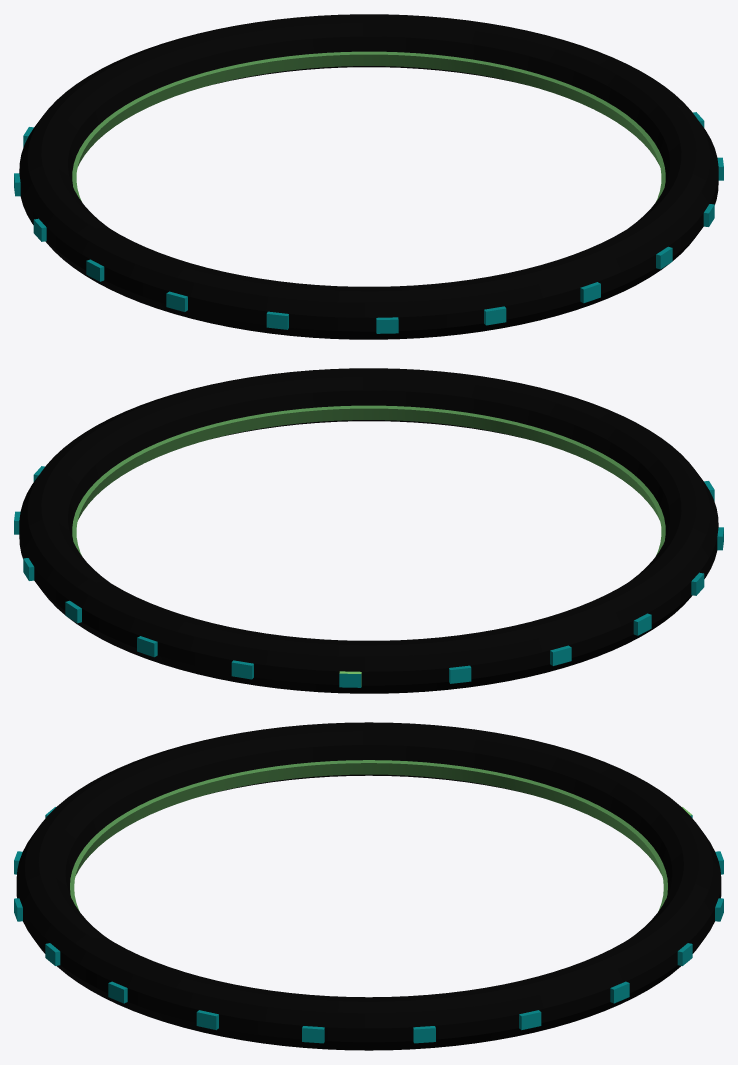
File: speed-ring.obj
3 renders of one model, top to bottom at view 1: azimuth 30°, elevation 25°; view 2: azimuth 150°, elevation 25°; view 3: azimuth 270°, elevation 25°, orthographic.
Parts seen in each view (by area): view 1: pTorus1; view 2: pTorus1; view 3: pTorus1.
Part boxes in pixels (x1=…): pTorus1: x1=14, y1=14, x2=723, y2=339; pTorus1: x1=14, y1=368, x2=723, y2=693; pTorus1: x1=14, y1=722, x2=723, y2=1050.
Bounding box in the file's own units: 26.11 × 1.98 × 26.11.
